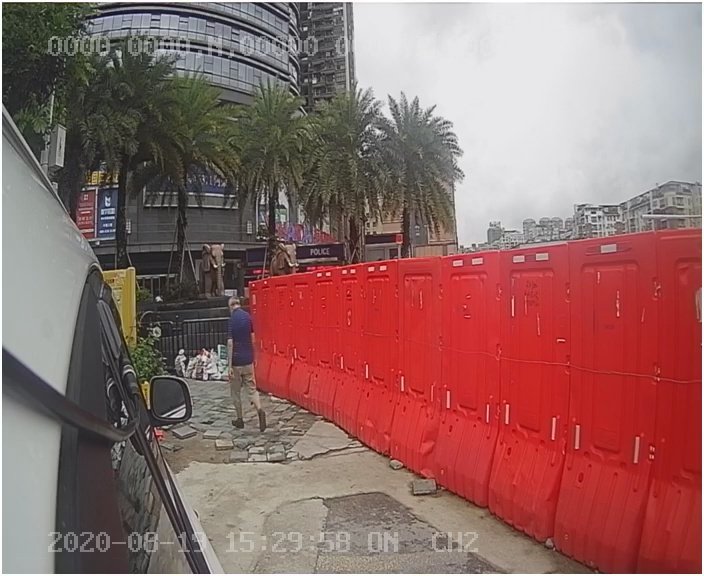person: (213, 292, 279, 435)
